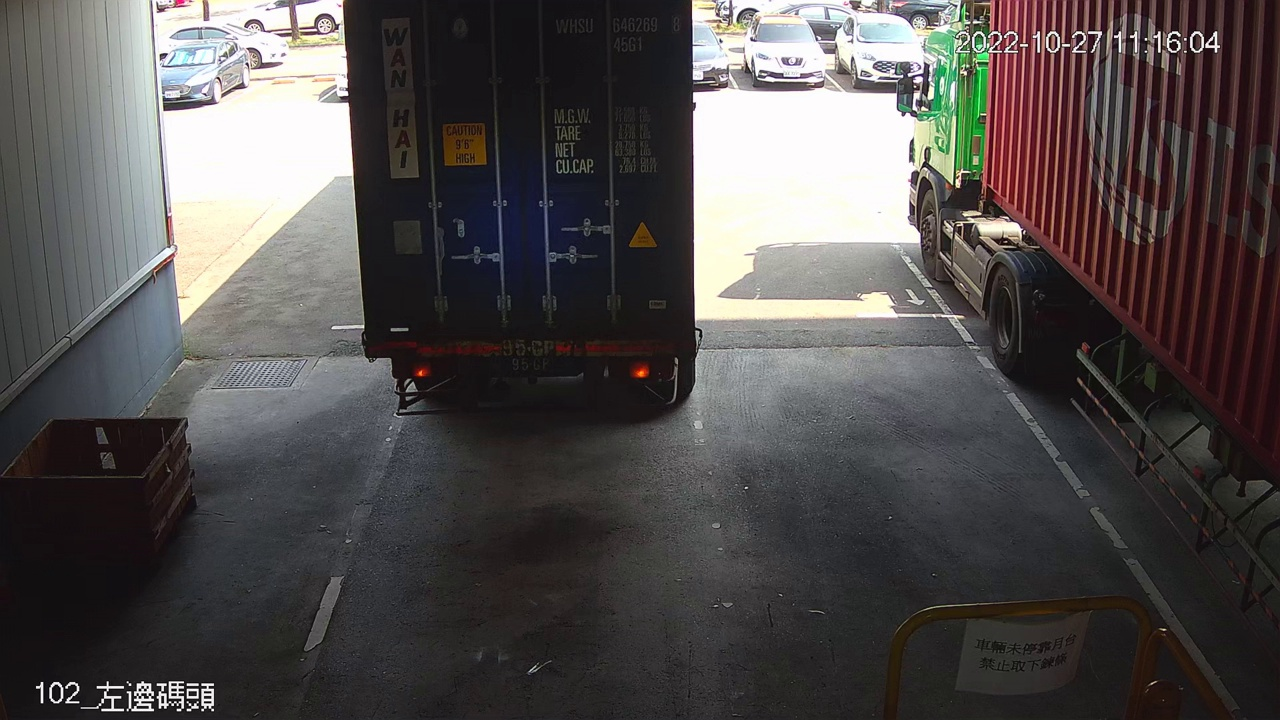container: (548, 7, 687, 59)
